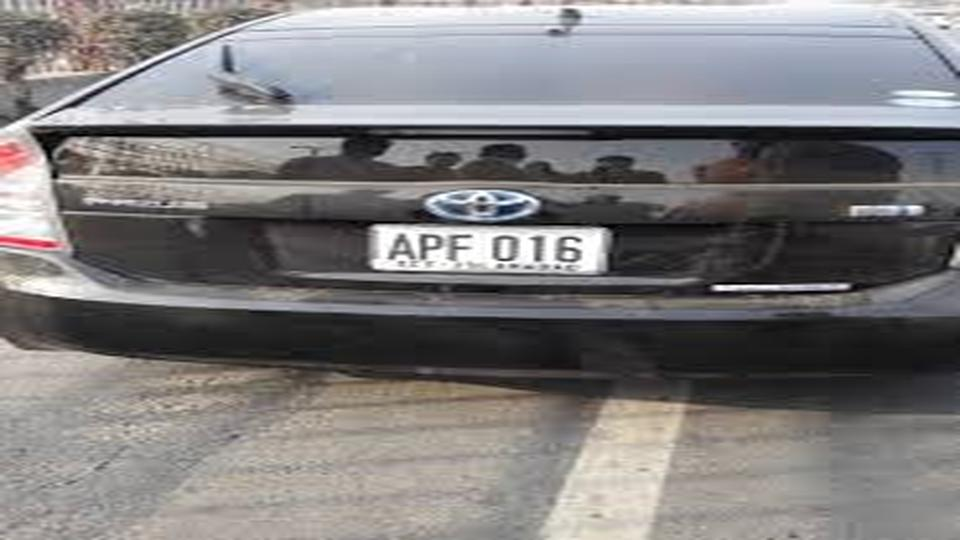NumberPlate: (367, 215, 611, 282)
